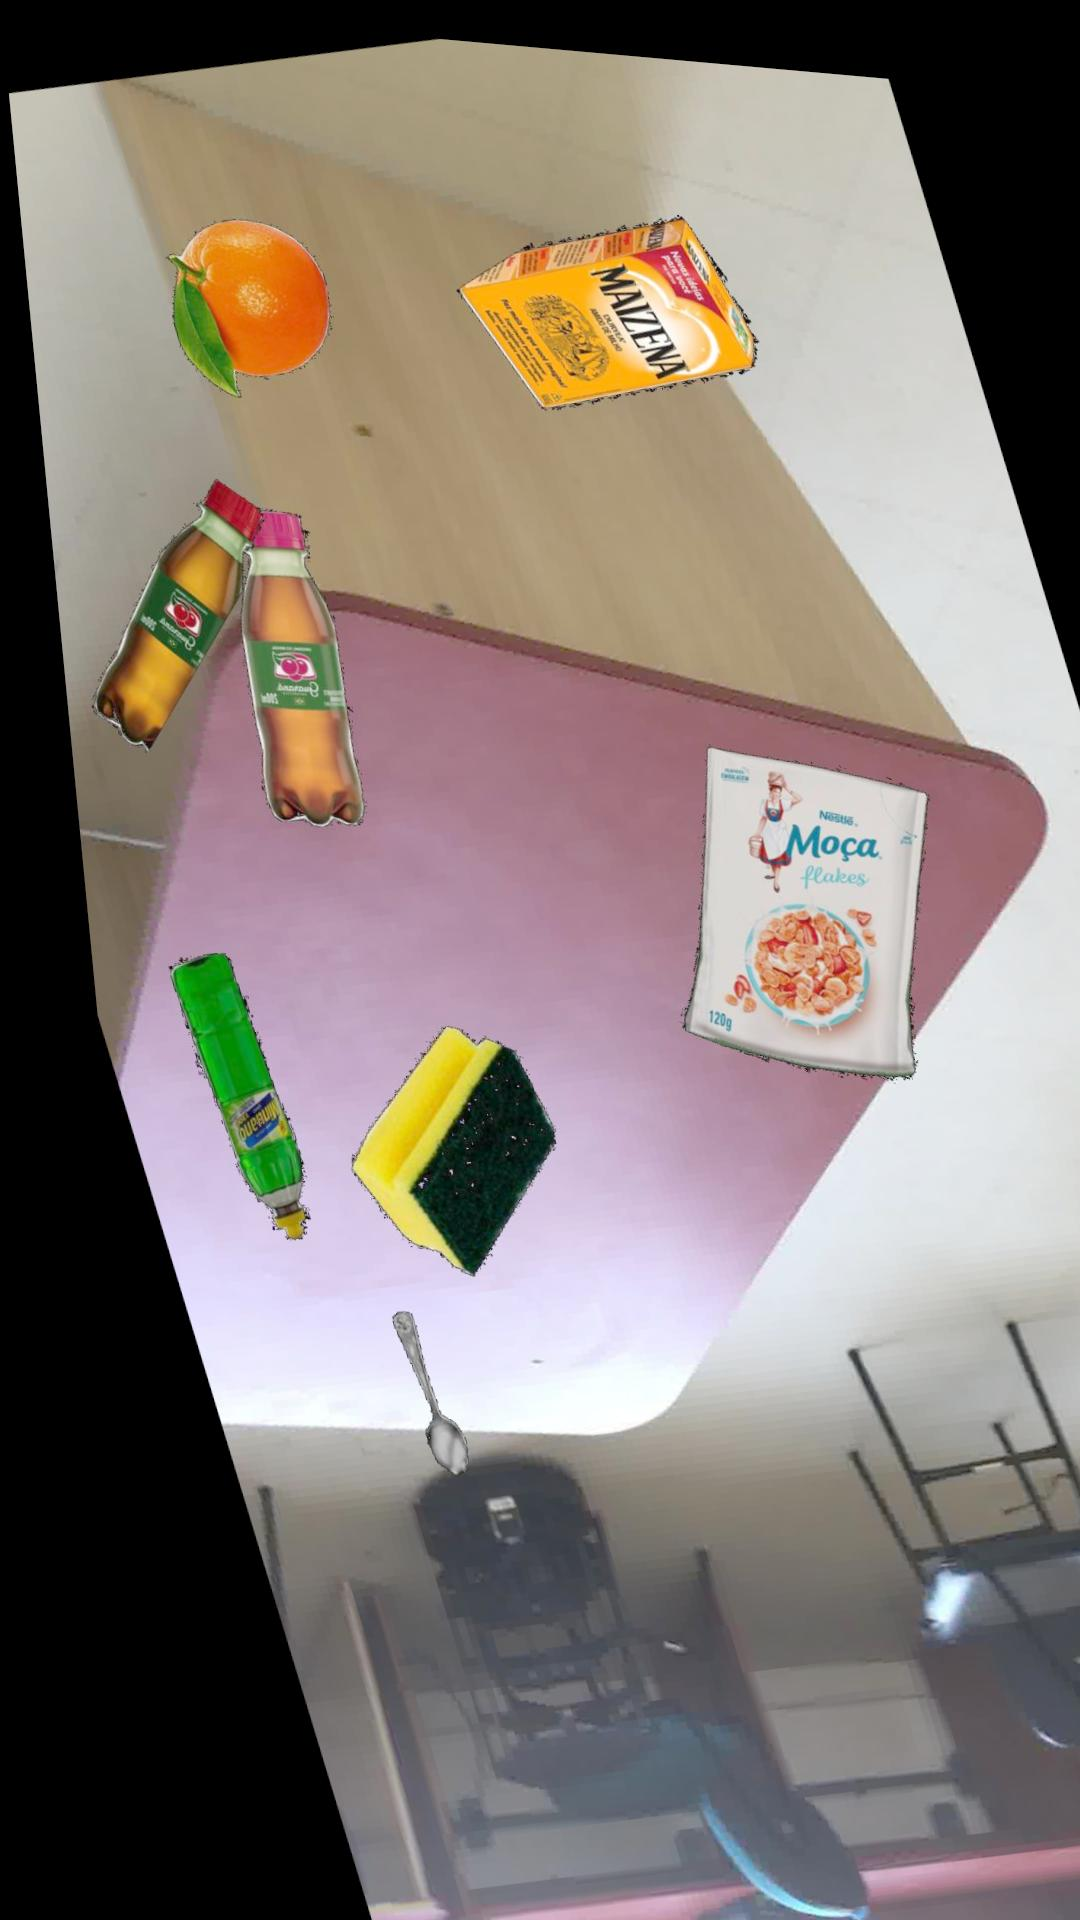cleaner: (148, 952, 285, 1238)
corn flakes: (661, 736, 914, 1067)
guarana: (78, 477, 252, 752), (227, 506, 348, 824)
orange: (161, 216, 323, 396)
sponge: (327, 1021, 533, 1271)
spoon: (364, 1307, 438, 1472)
